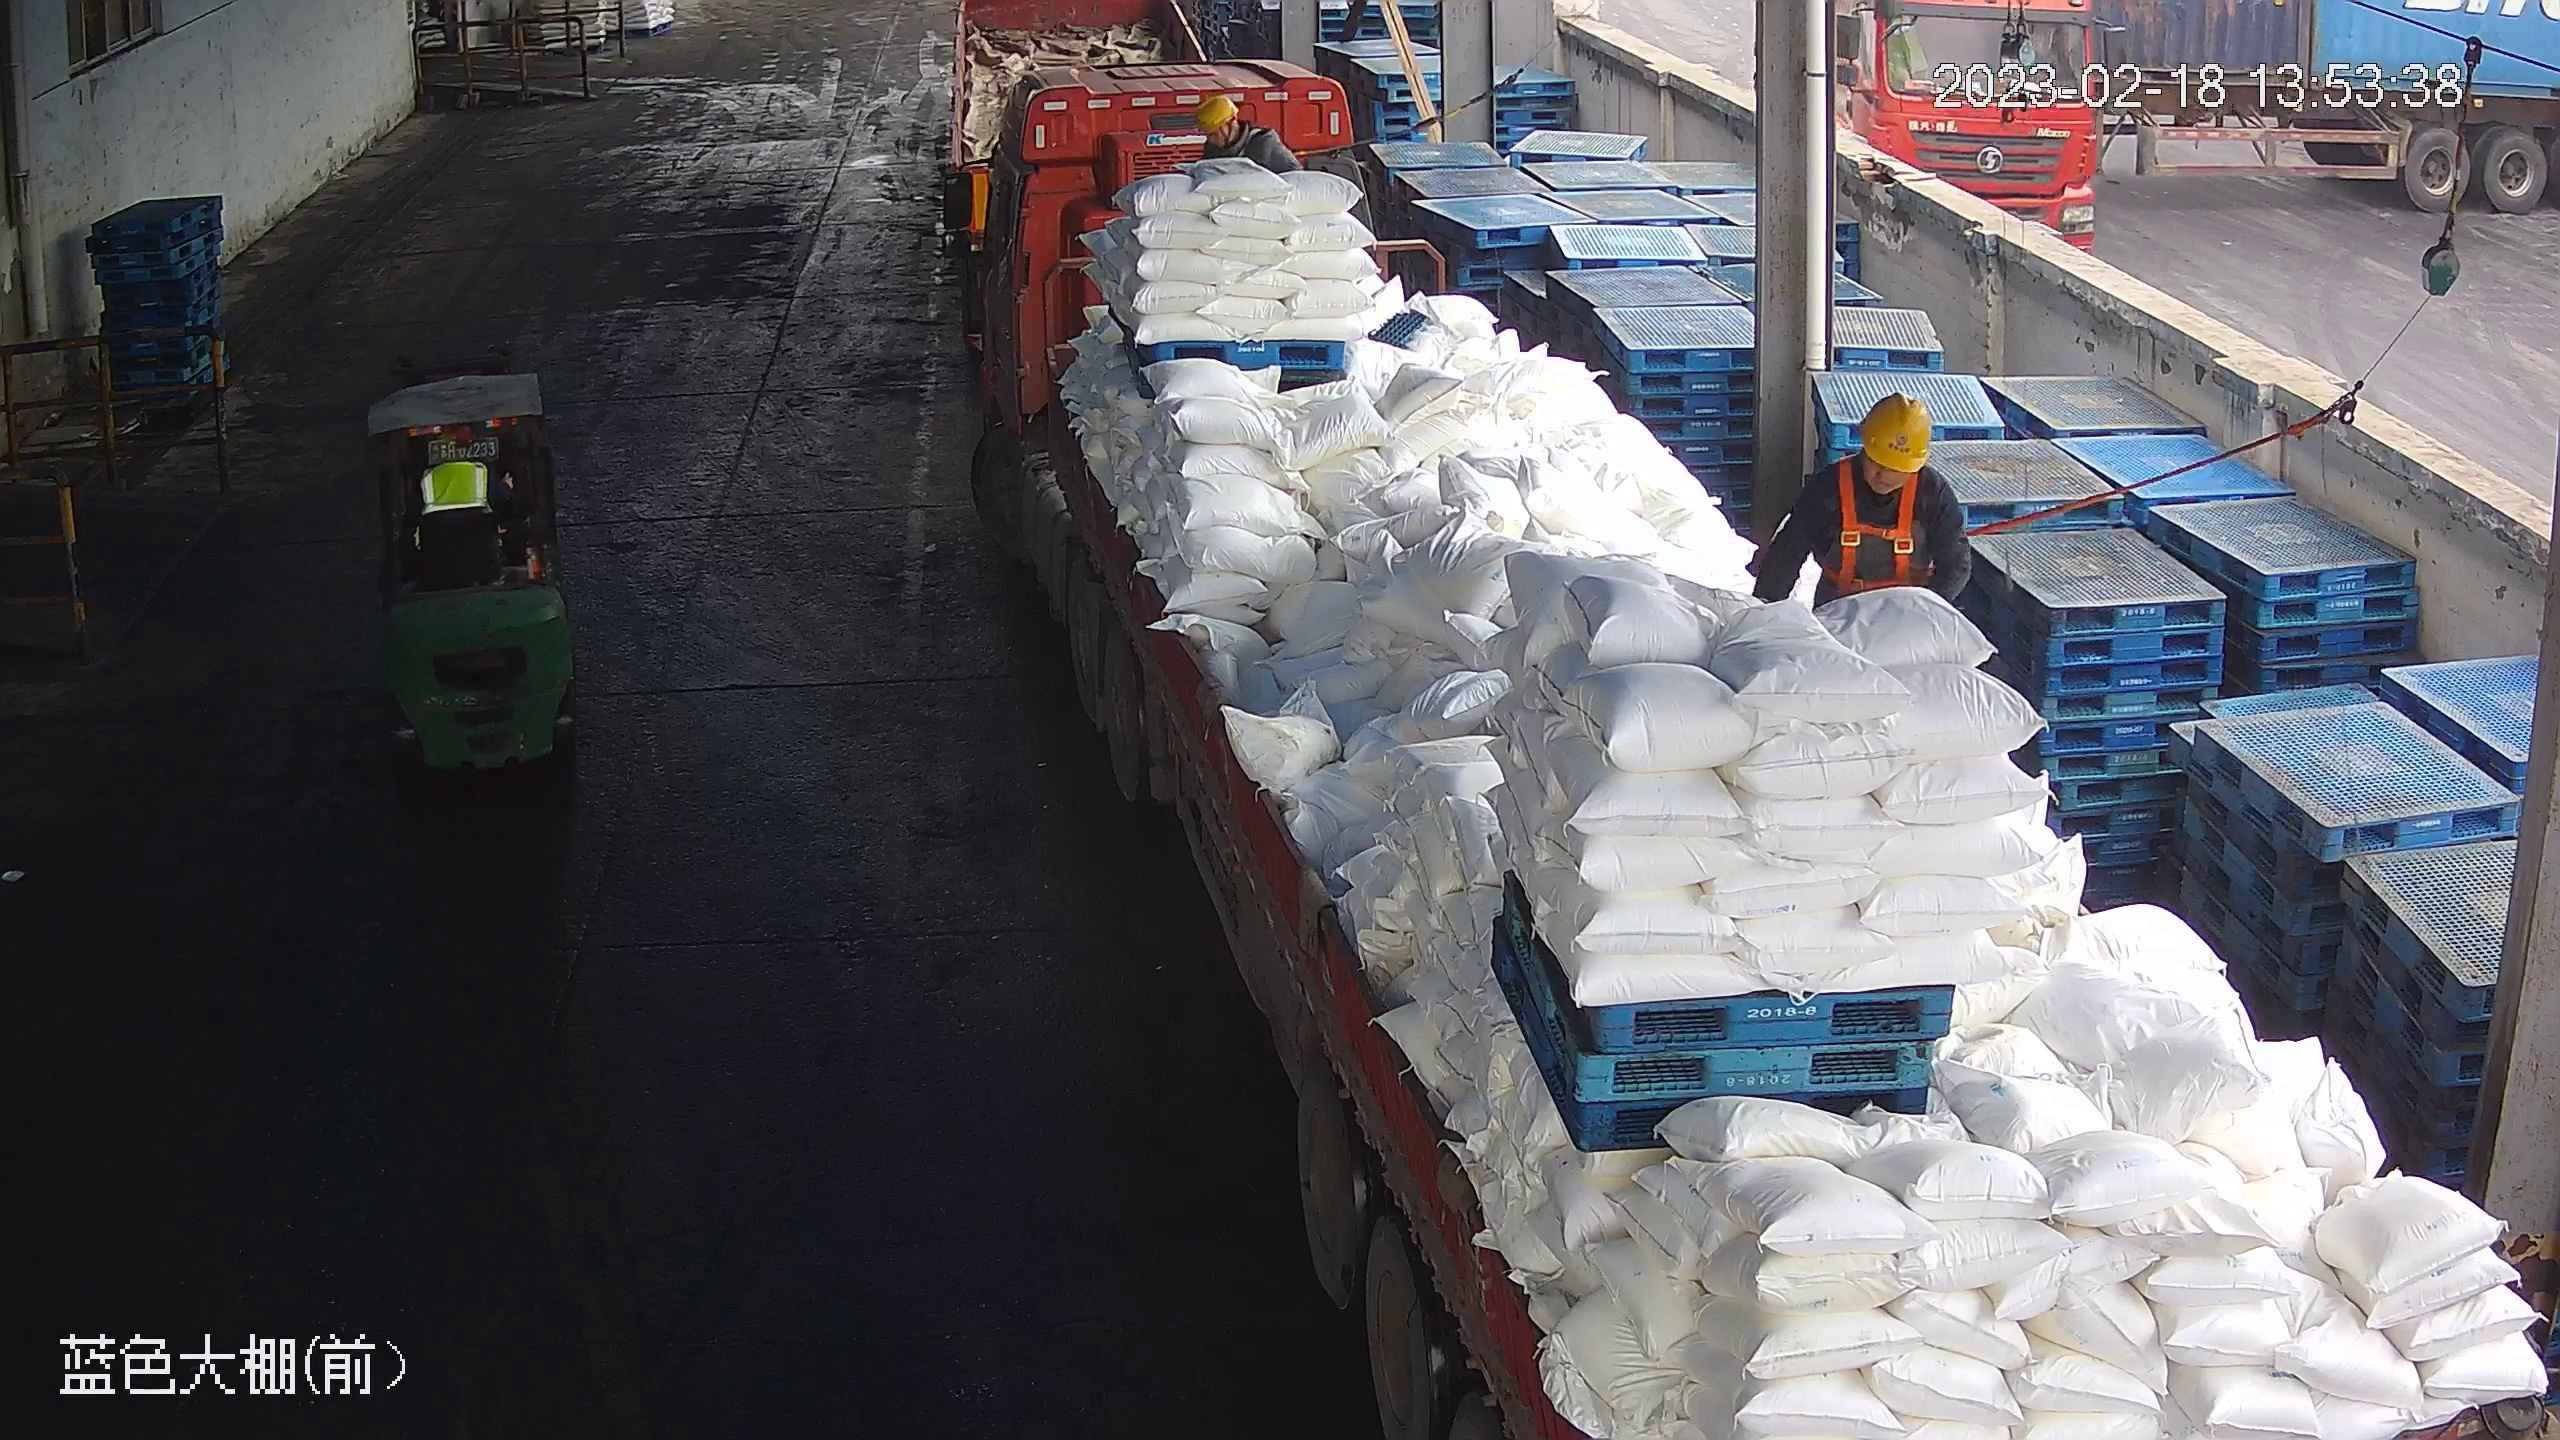belt: (1826, 451, 1992, 598)
head: (1799, 391, 1964, 522), (1195, 96, 1298, 165)
helmet: (1854, 390, 1934, 474), (1195, 96, 1241, 134)
people: (1755, 389, 1971, 615)
truck: (964, 57, 2560, 1440)
